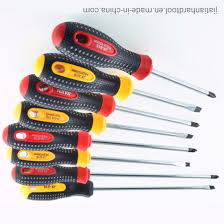Screwdriver: (7, 15, 224, 206)
